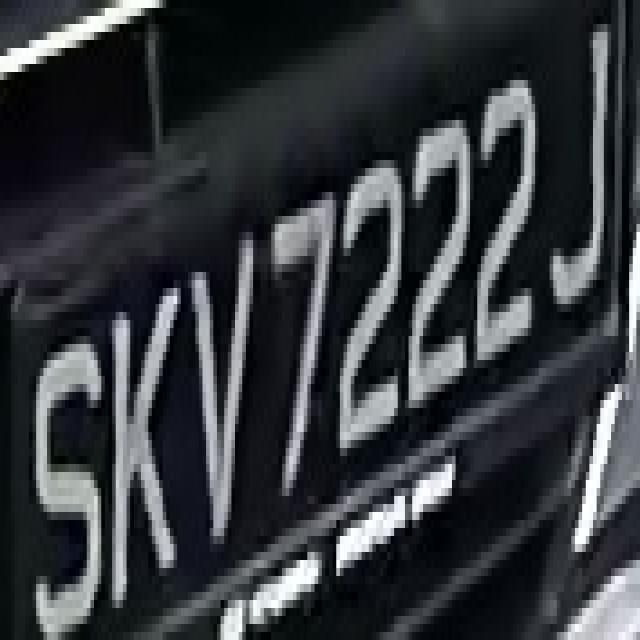2: (390, 96, 481, 432), (326, 128, 408, 464), (459, 64, 546, 376)
7: (264, 176, 343, 512)
J: (546, 32, 615, 304)
K: (105, 256, 177, 592)
S: (22, 312, 105, 624)
V: (180, 240, 268, 520)
